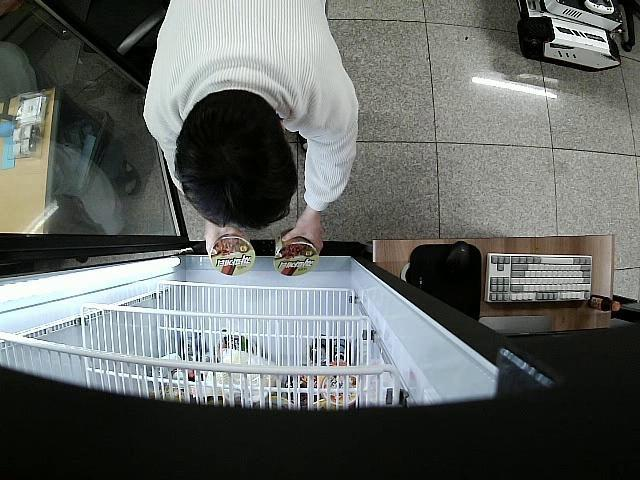03_chapagetti_L: (271, 229, 318, 278), (212, 236, 256, 276)
